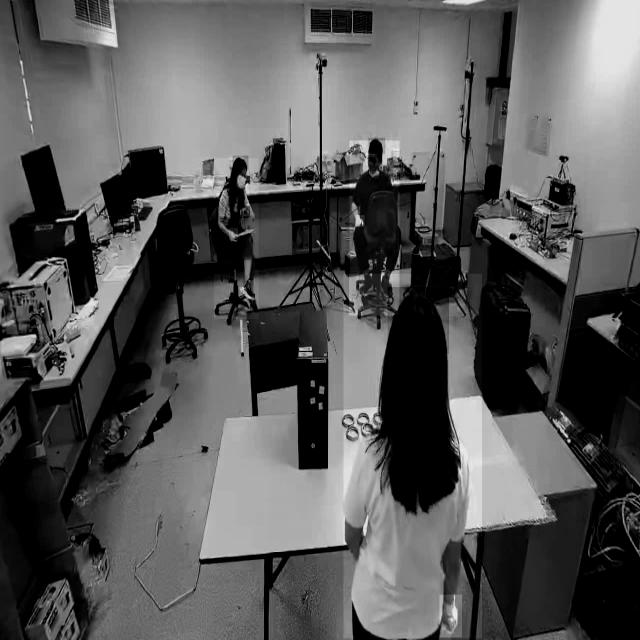face_mask: (234, 172, 249, 198)
face_nomask: (368, 154, 382, 172)
hand_glove: (439, 595, 462, 638)
hand_noglove: (228, 228, 238, 242), (240, 205, 250, 219), (355, 215, 365, 228)
head_nohelmet: (387, 287, 449, 355), (368, 138, 385, 154), (232, 156, 248, 170)
person: (343, 274, 482, 639), (349, 140, 399, 316), (214, 158, 258, 320)
shoes: (378, 269, 396, 298), (356, 271, 374, 299), (239, 274, 257, 301)
